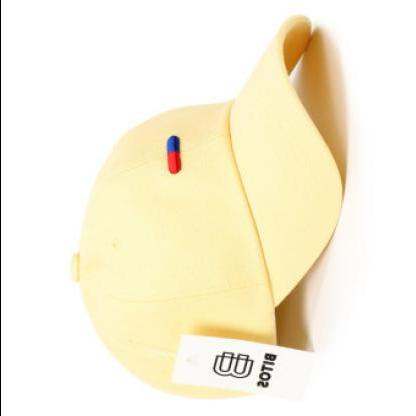cap: (55, 7, 344, 408)
